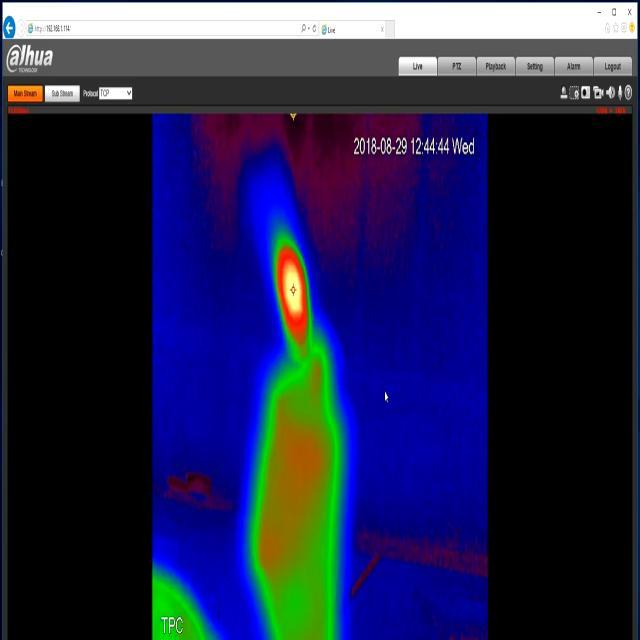fire: (274, 225, 319, 360)
